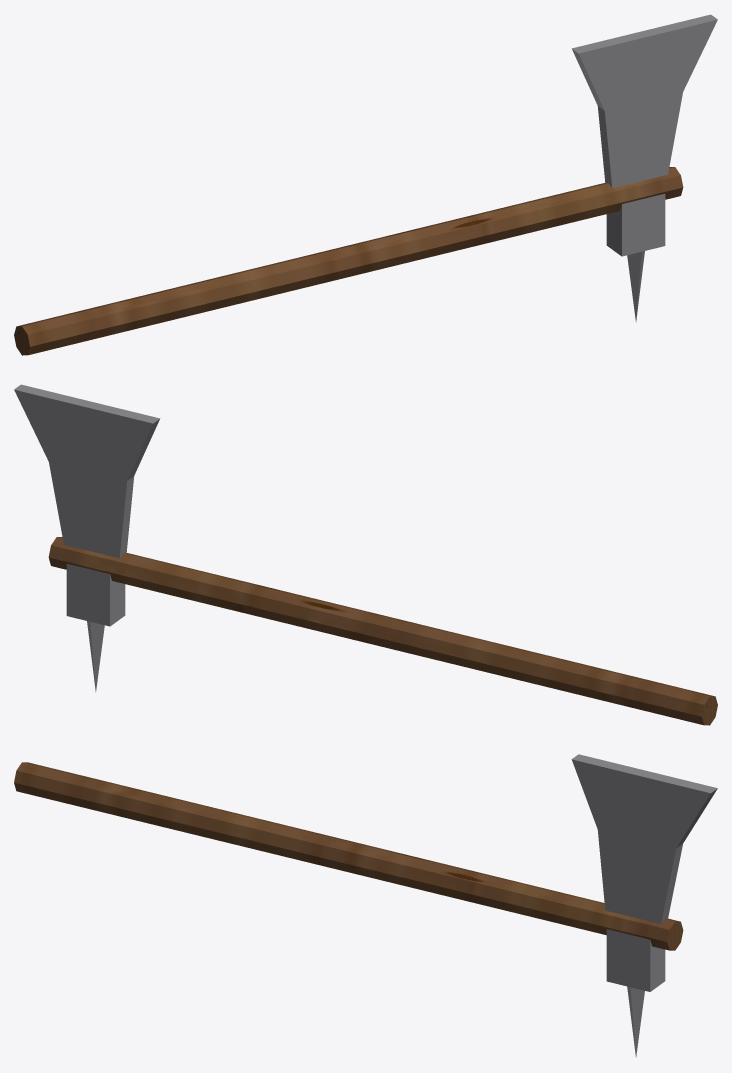
The model's file is war_axe.glb.
3 renders of one model, top to bottom at view 1: azimuth 30°, elevation 25°; view 2: azimuth 150°, elevation 25°; view 3: azimuth 330°, elevation 25°, orthographic.
Parts seen in each view (by area): view 1: War_Axe; view 2: War_Axe; view 3: War_Axe.
Part boxes in pixels (x1=…): War_Axe: x1=14, y1=14, x2=717, y2=355; War_Axe: x1=14, y1=384, x2=717, y2=725; War_Axe: x1=14, y1=754, x2=717, y2=1057.
Size of the model in its own units: 0.795 by 0.3149 by 0.032.
2 materials, 1 textured.
